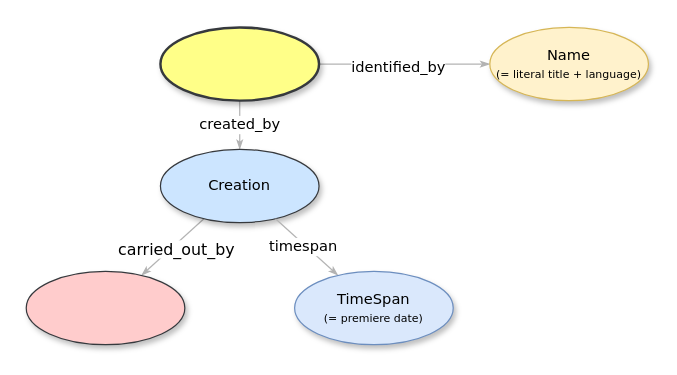
The diagram is 677 pixels wide and 375 high, and some of its shapes have lost their labels. The shapes that lost their labels are listed below. From the top down, each one's centre as x and y in pixels, then its label:
the point at 240,65: LinguisticObject (Text )
the point at 106,309: Person (= author)
